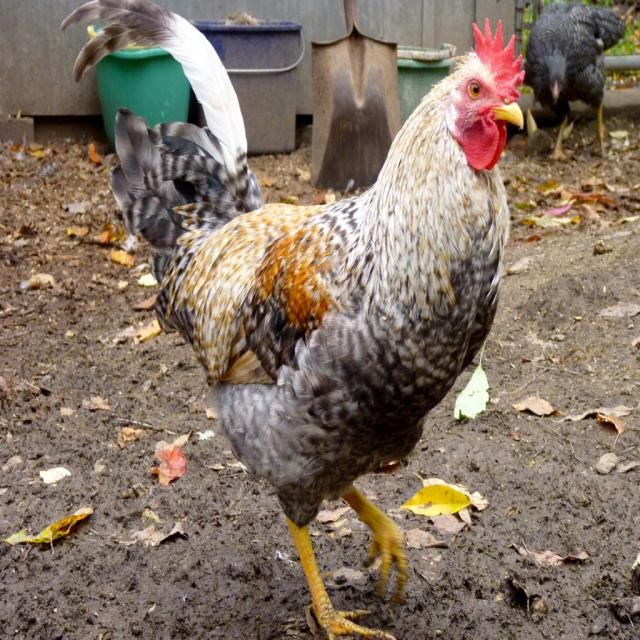Chicken: (50, 0, 533, 639), (524, 0, 630, 161)
